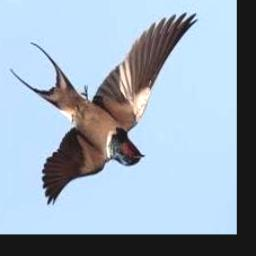Swallow: (11, 14, 198, 207)
